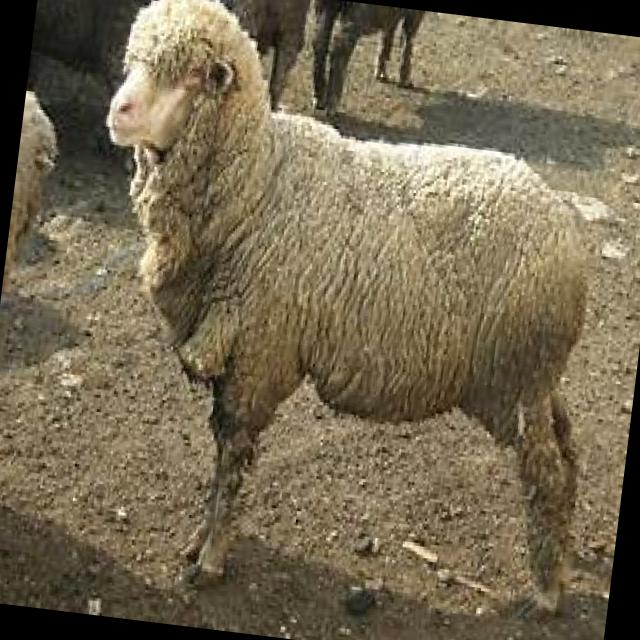sheep: (51, 0, 640, 630)
